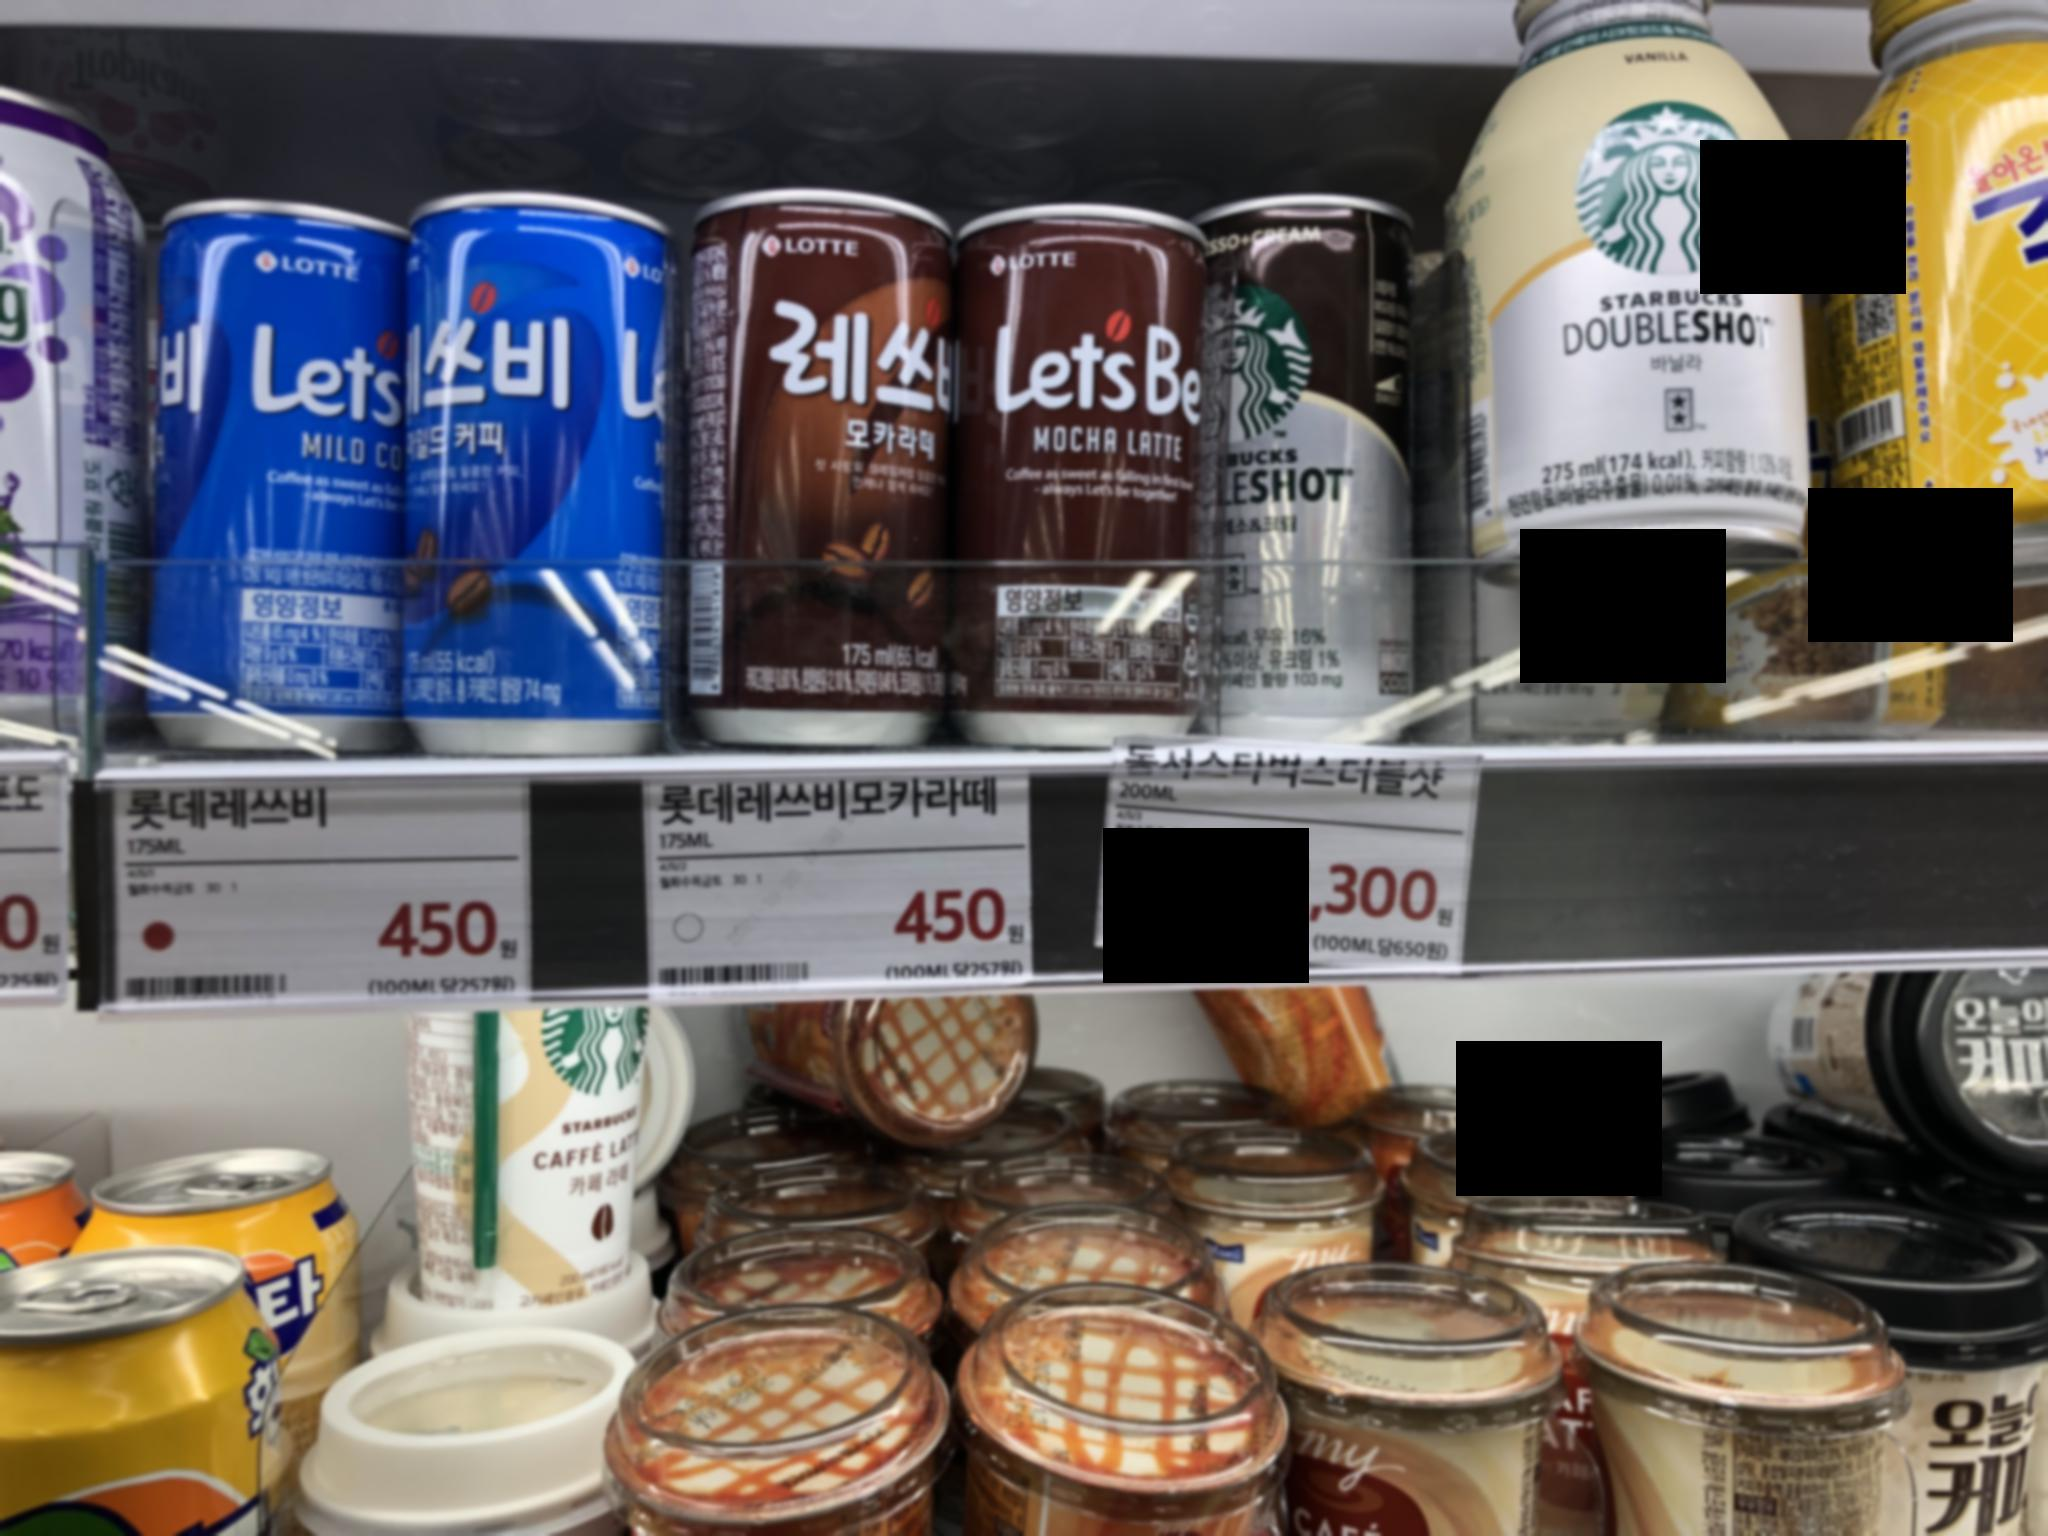letsbe: (408, 187, 684, 765), (114, 182, 400, 739)
